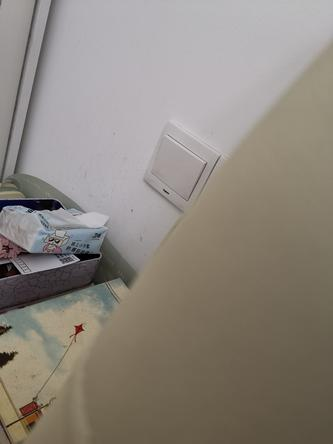switch: (158, 140, 199, 202)
